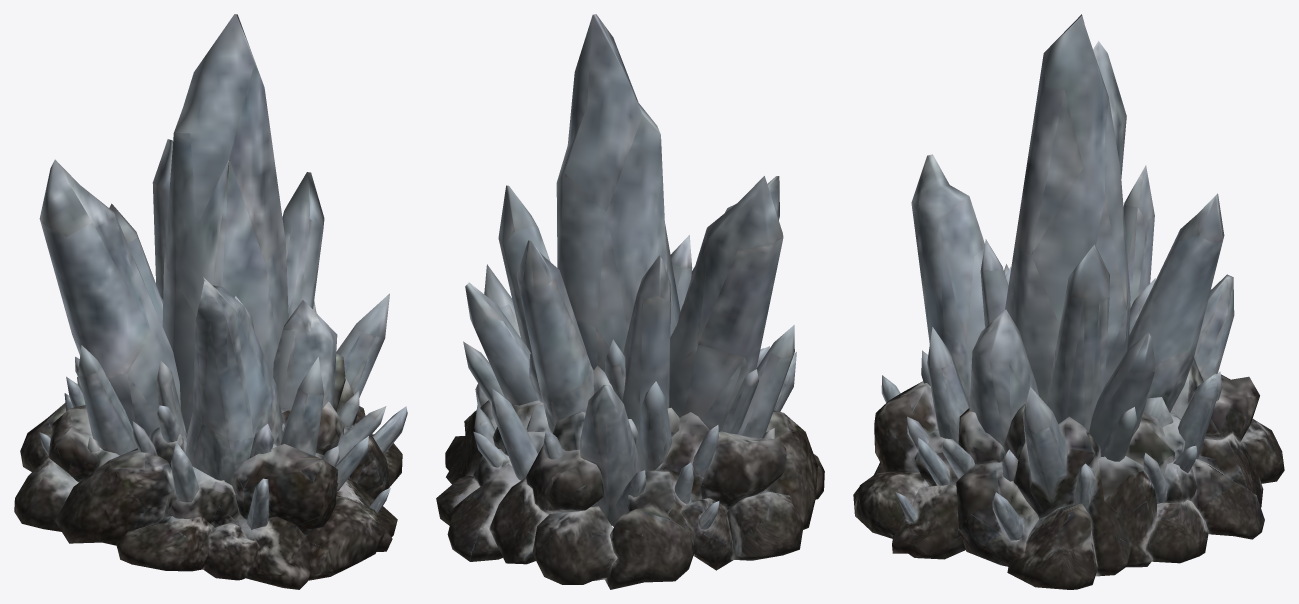
The model's file is p_crystal.glb.
3 renders of one model, left to right at view 1: azimuth 30°, elevation 25°; view 2: azimuth 150°, elevation 25°; view 3: azimuth 270°, elevation 25°, orthographic. The views are drawn at different scales.
Parts seen in each view (by area): view 1: p_crystal; view 2: p_crystal; view 3: p_crystal.
Boxes of the visible parts, bbox=[...] form: p_crystal: bbox=[14, 14, 407, 589]; p_crystal: bbox=[436, 14, 824, 589]; p_crystal: bbox=[853, 14, 1284, 589].
Size of the model in its own units: 0.8 by 1.05 by 0.7966.
Materials: 1 (1 with a texture image).
